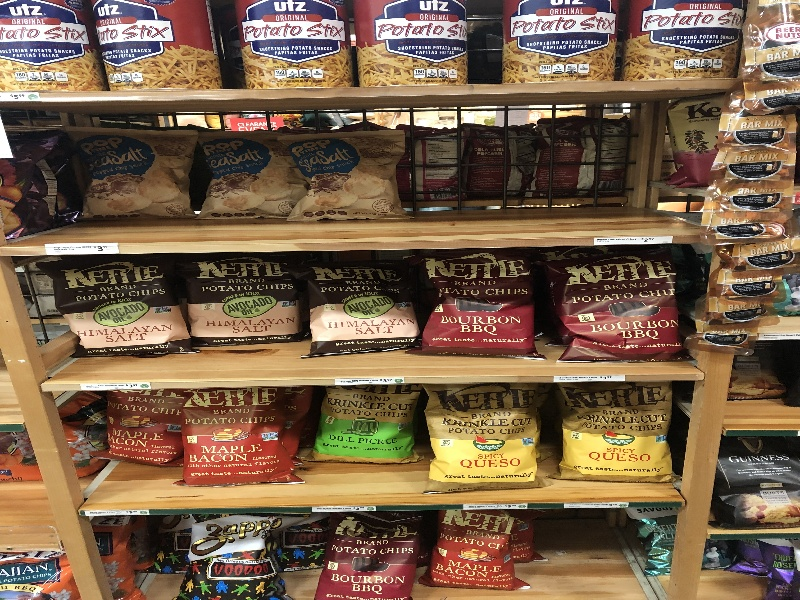void: (403, 111, 704, 221), (79, 139, 275, 223), (545, 517, 646, 600)
